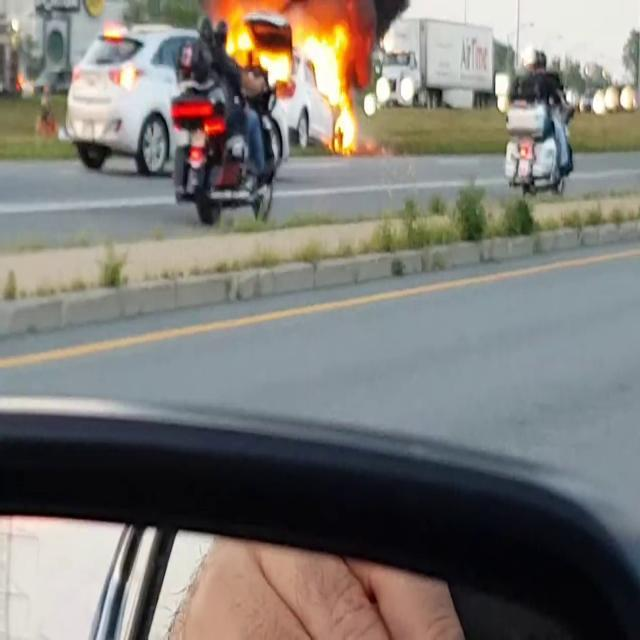Fire: (217, 2, 365, 148)
